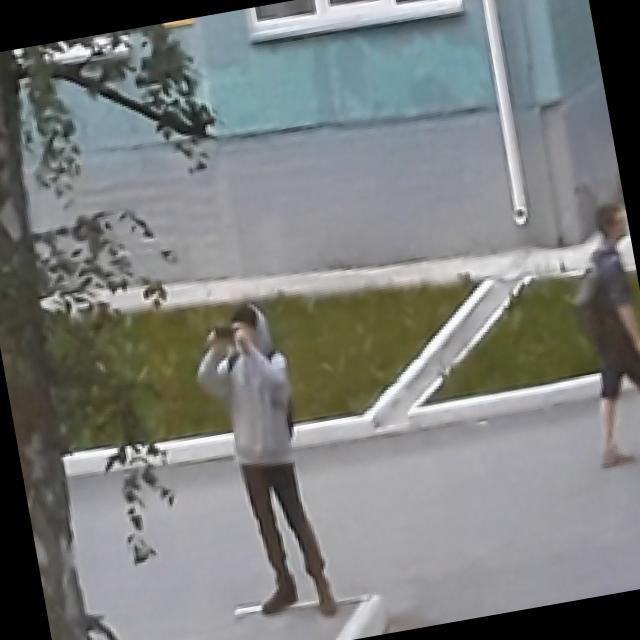person: (185, 293, 342, 631), (557, 198, 640, 471)
